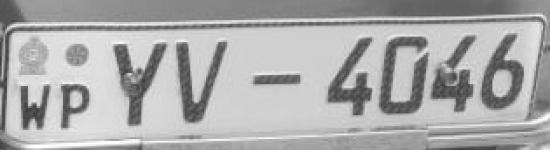-: (244, 65, 309, 95)
0: (376, 30, 433, 120)
4: (323, 30, 376, 120), (430, 30, 478, 120)
6: (479, 28, 527, 118)
P: (105, 37, 171, 130), (57, 78, 93, 134)
V: (174, 33, 232, 129)
W: (15, 81, 54, 134)
